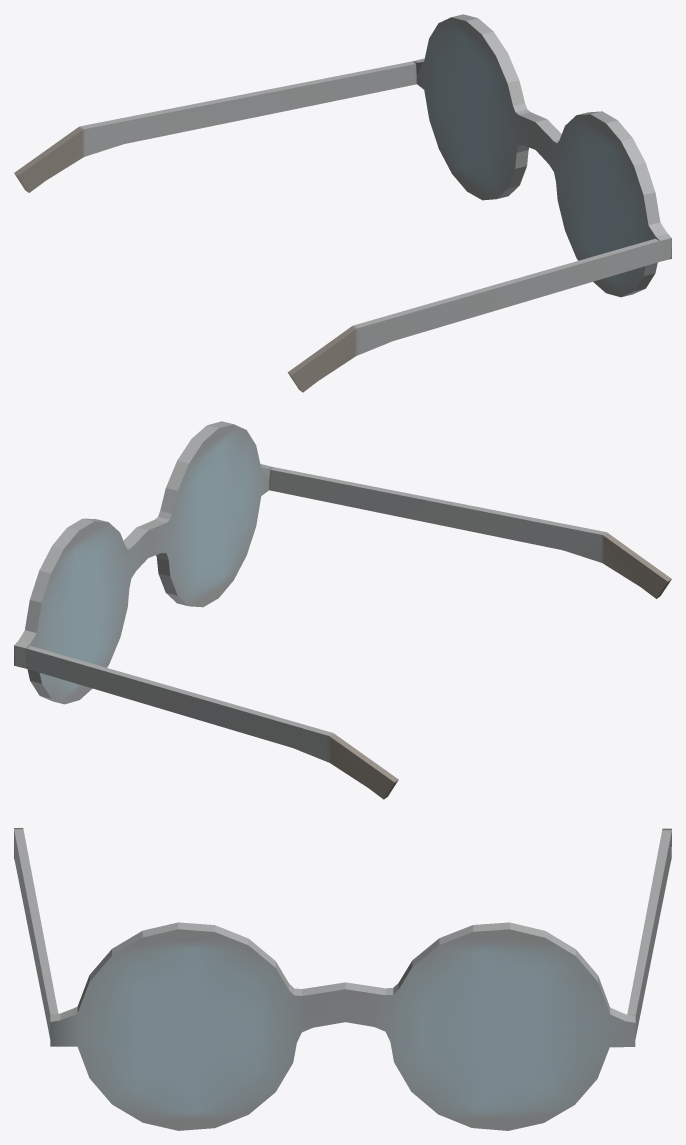
Rendered from glassescprsd.glb.
The picture shows the model from 3 angles, top to bottom: view 1: azimuth 30°, elevation 25°; view 2: azimuth 150°, elevation 25°; view 3: azimuth 270°, elevation 25°; orthographic projection. The views are drawn at different scales.
Parts seen in each view (by area): view 1: Glasses; view 2: Glasses; view 3: Glasses.
Boxes of the visible parts, bbox=[...] form: Glasses: bbox=[14, 14, 671, 392]; Glasses: bbox=[14, 421, 671, 799]; Glasses: bbox=[14, 828, 671, 1130].
Size of the model in its own units: 4.06 by 1.67 by 4.93.
1 material, 1 textured.
